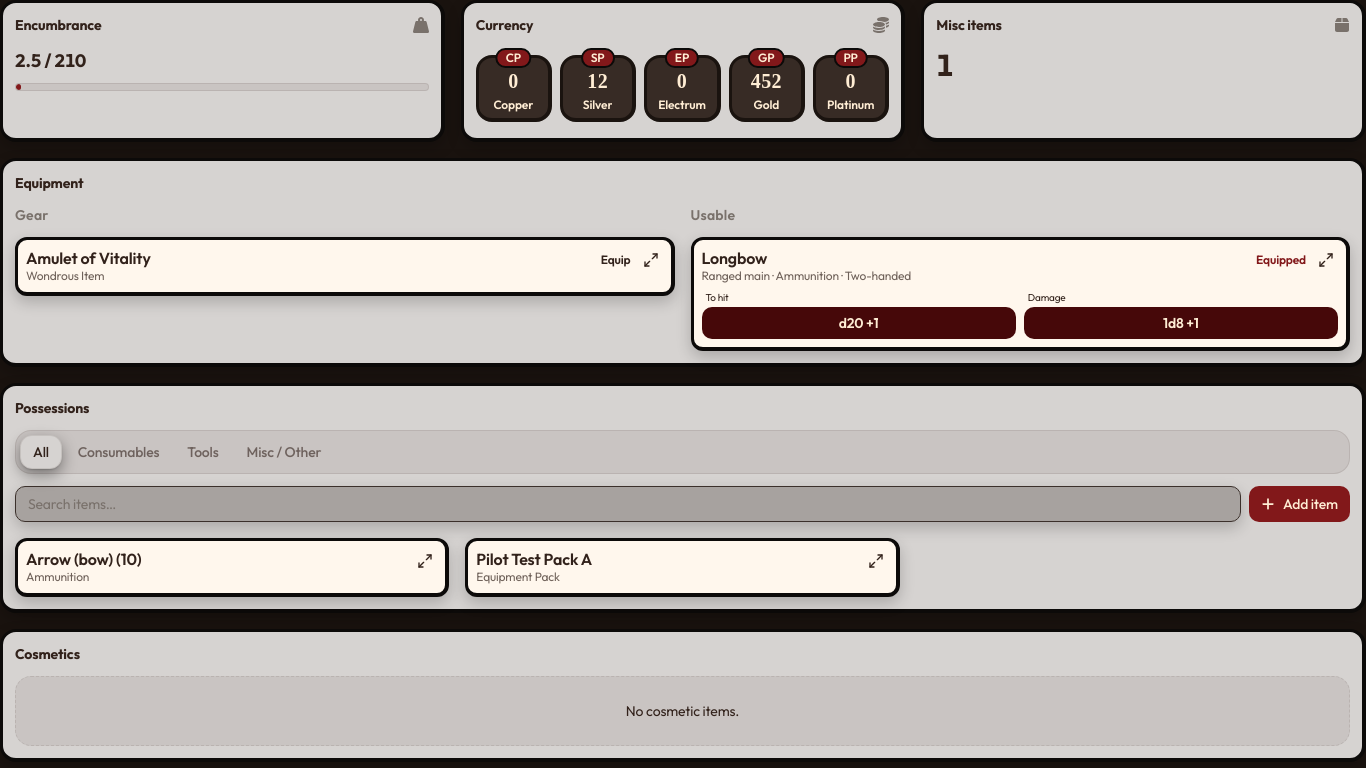
Test case: InventoryTab equip actions › unequips to bag quantity 0 when decreasing equipped quantity
Click the button named "Expand Longbow" at point(1326, 260), box [1314,248,1338,272]
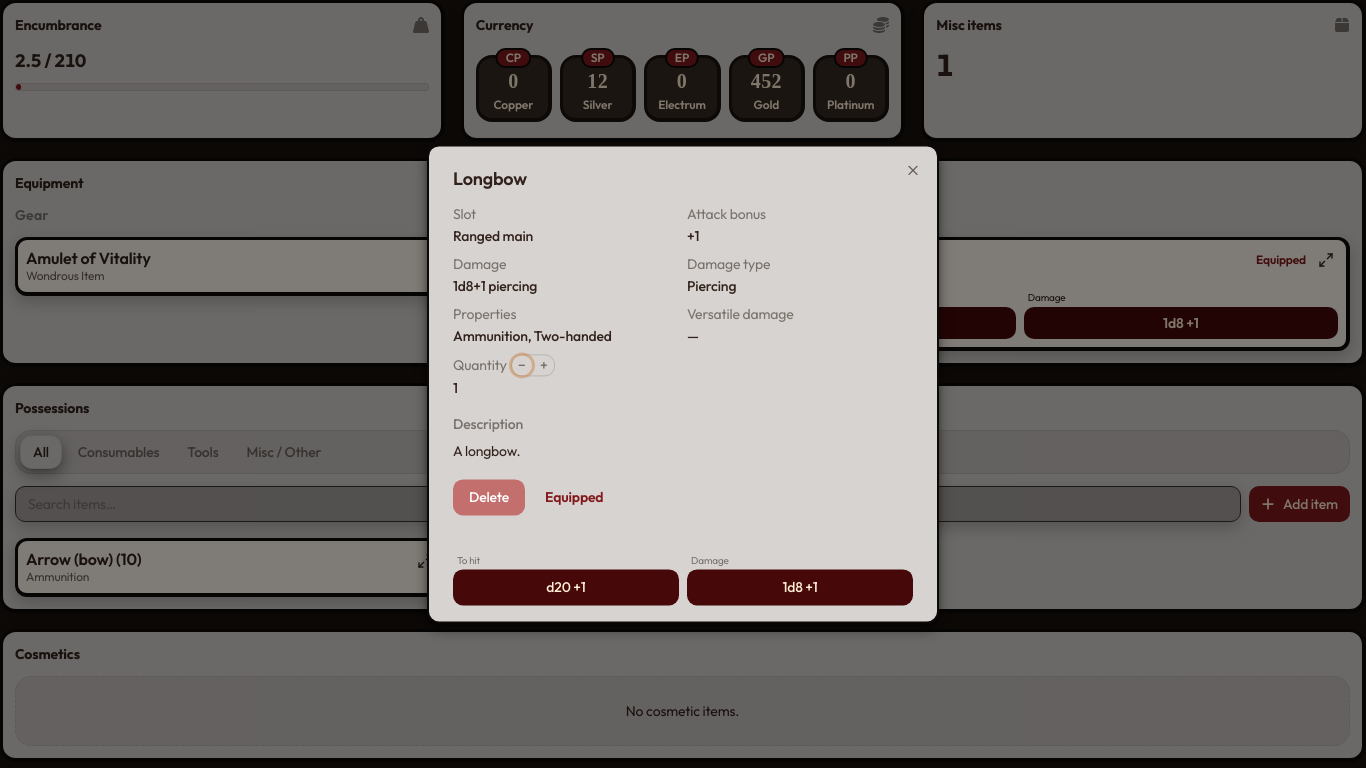
Now the button named "Increase quantity" is enabled, box [534,355,554,375]
Click the button named "Decrease quantity" at point(522, 365), box [512,355,532,375]
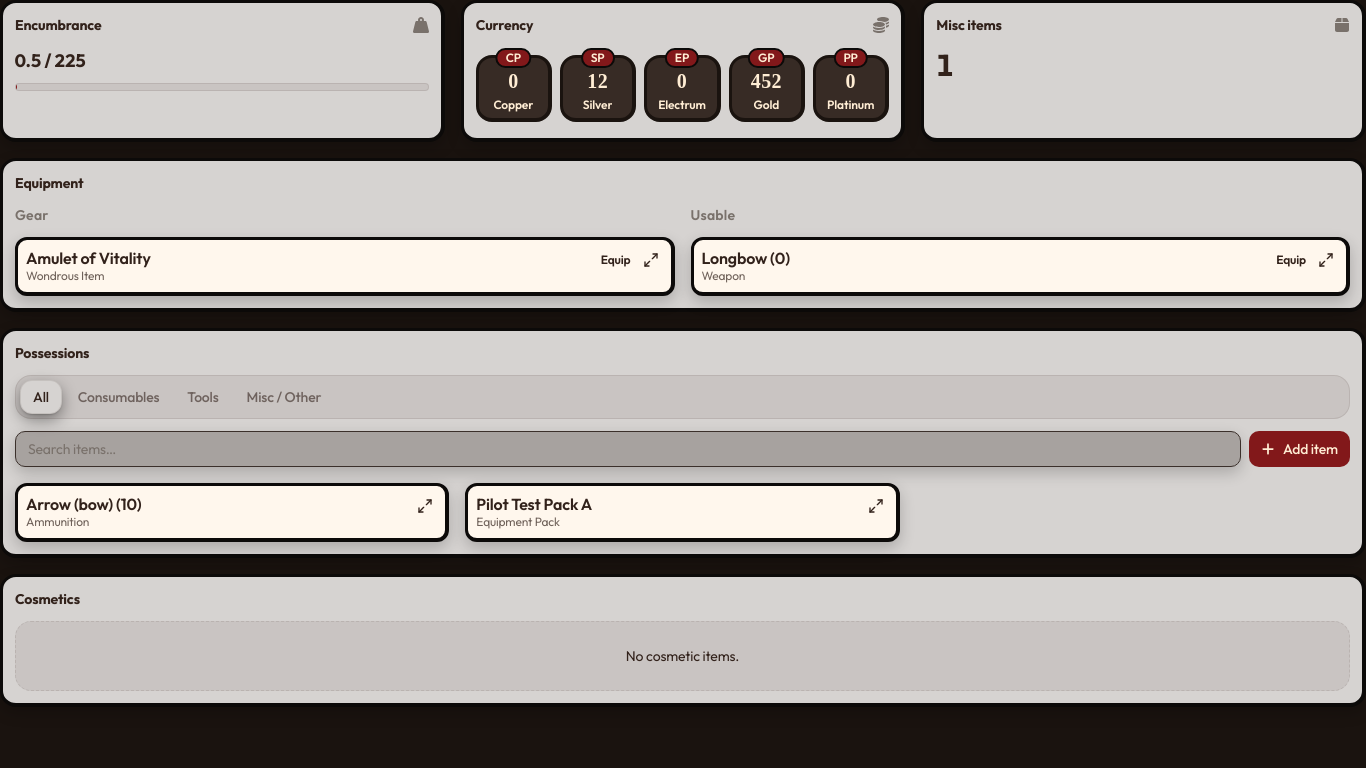
Now the heading "Longbow (0)" is shown, box [702,248,790,268]
